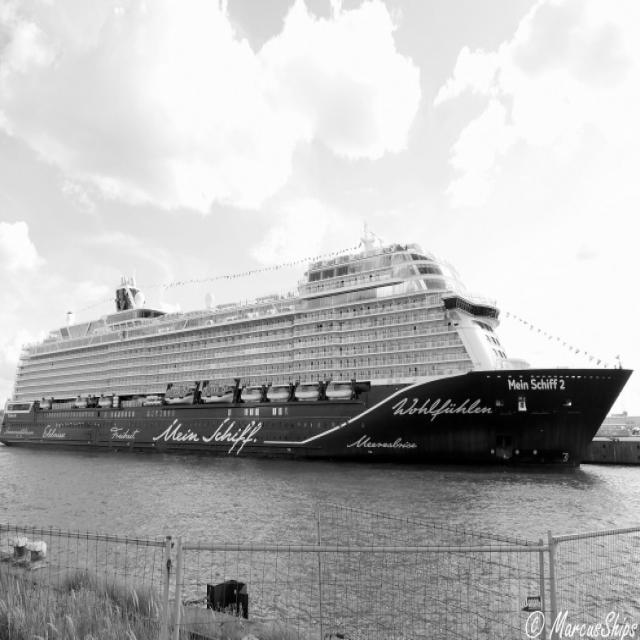cruises: (1, 230, 637, 487)
